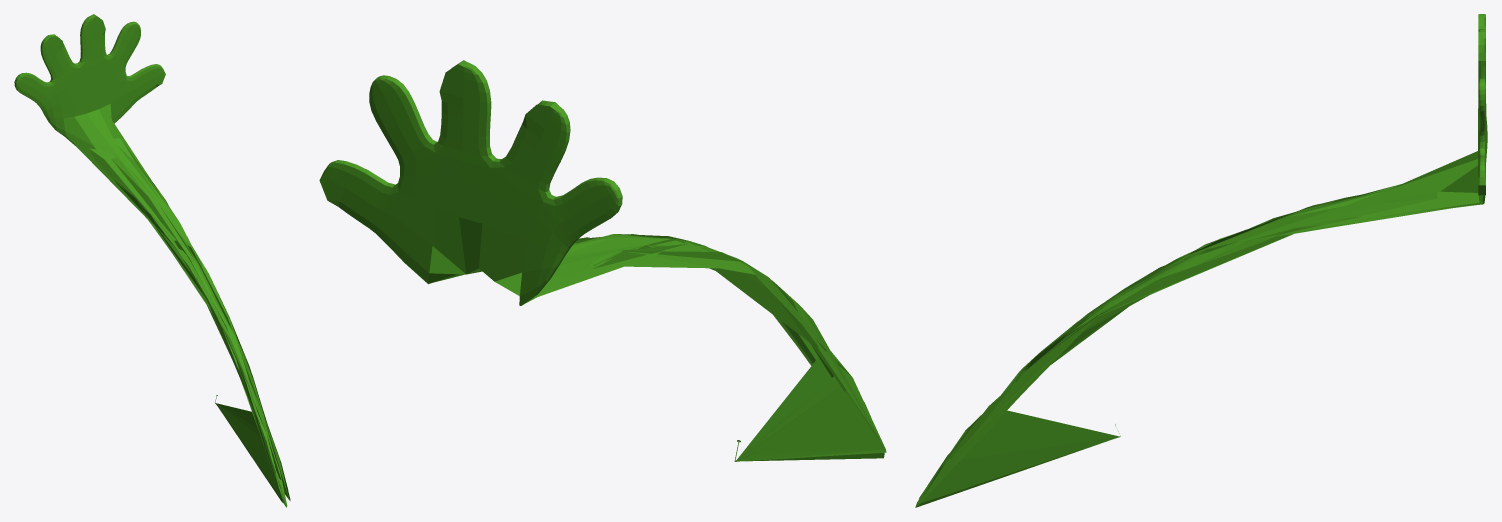
Rendered from equipped_stickyhand.glb.
3 views of the same model, side by side, from view 1: azimuth 30°, elevation 25°; view 2: azimuth 150°, elevation 25°; view 3: azimuth 270°, elevation 25° (orthographic). The views are drawn at different scales.
Parts seen in each view (by area): view 1: Cube; view 2: Cube; view 3: Cube.
Part boxes in pixels (x1=…): Cube: x1=14, y1=14, x2=290, y2=507; Cube: x1=319, y1=60, x2=886, y2=461; Cube: x1=915, y1=14, x2=1487, y2=507.
Bounding box in the file's own units: 0.9216 × 2.02 × 2.17.
